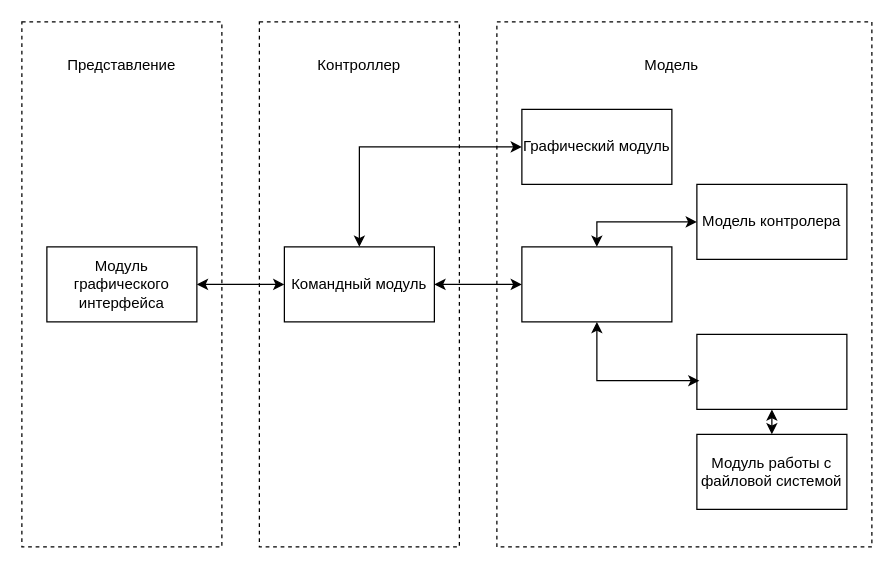
The diagram is 894 pixels wide and 569 high, and some of its shapes have lost their labels. Here are the shapes that lost their labels. From the top down, the centre of each, then its label:
point (596, 284): Модуль извлечения ключевых слов
point (771, 371): Модуль загрузки данных
